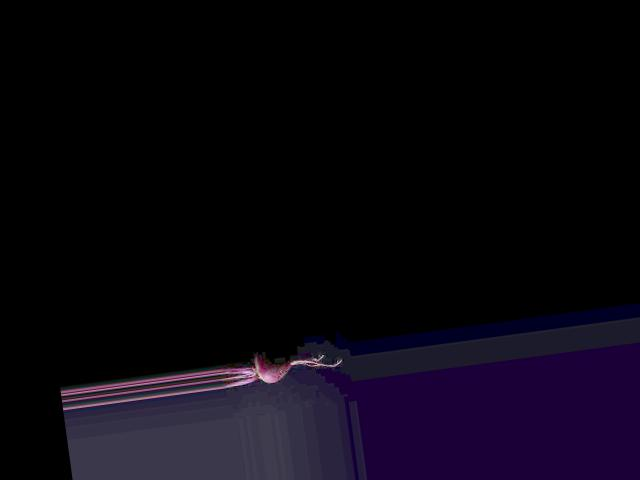beet: (218, 341, 343, 391)
